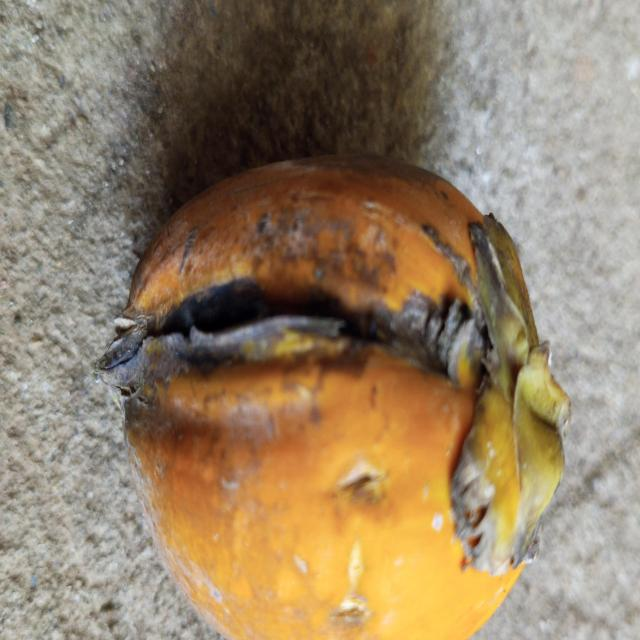damaged: (96, 155, 570, 640)
